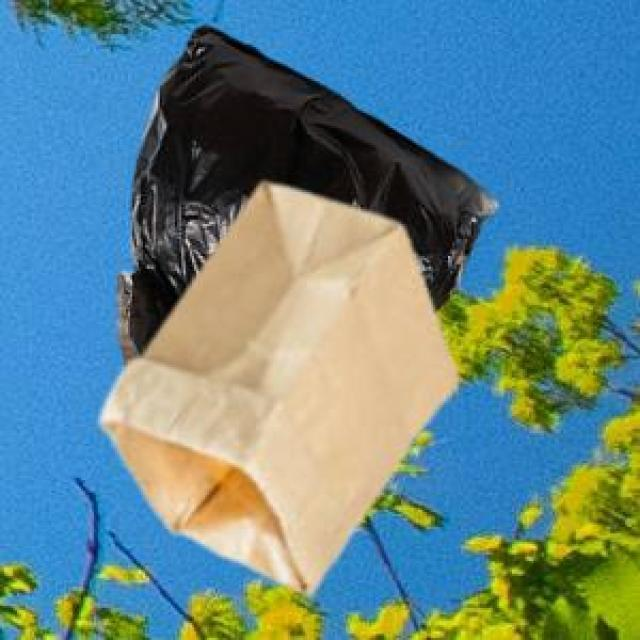miscellaneous trash: (113, 21, 493, 363)
paper: (96, 179, 454, 589)
